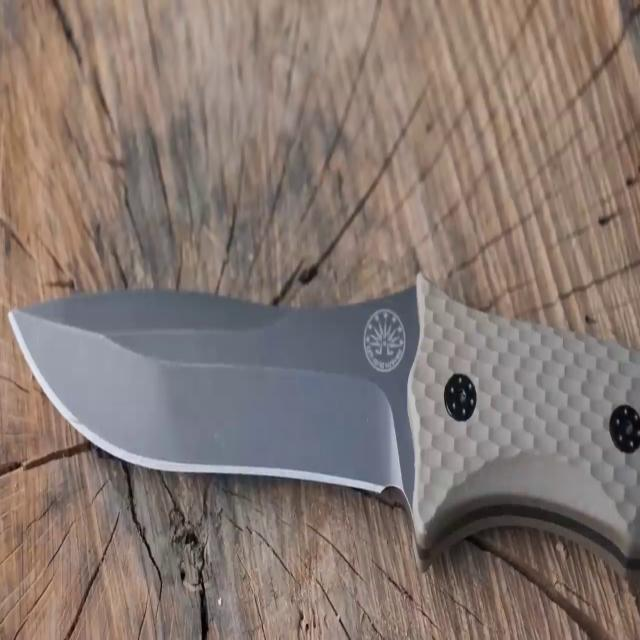Knife: (1, 254, 640, 603)
